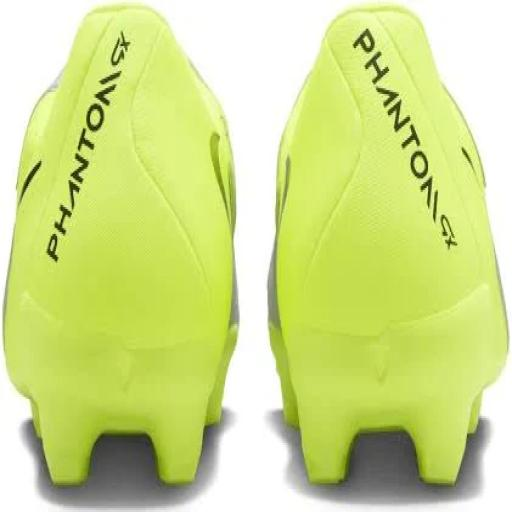shoe: (269, 6, 508, 483), (4, 6, 238, 485)
